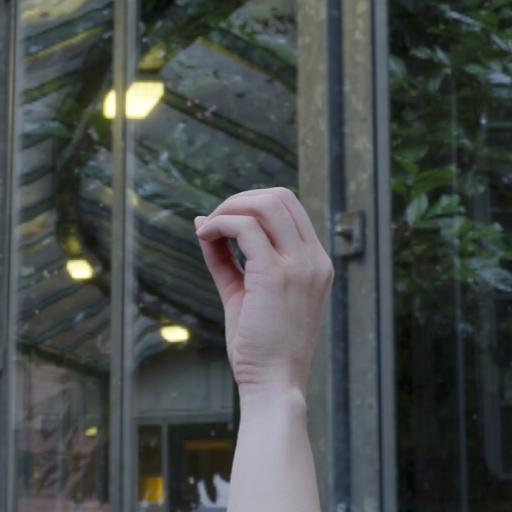O: (162, 164, 386, 404)
